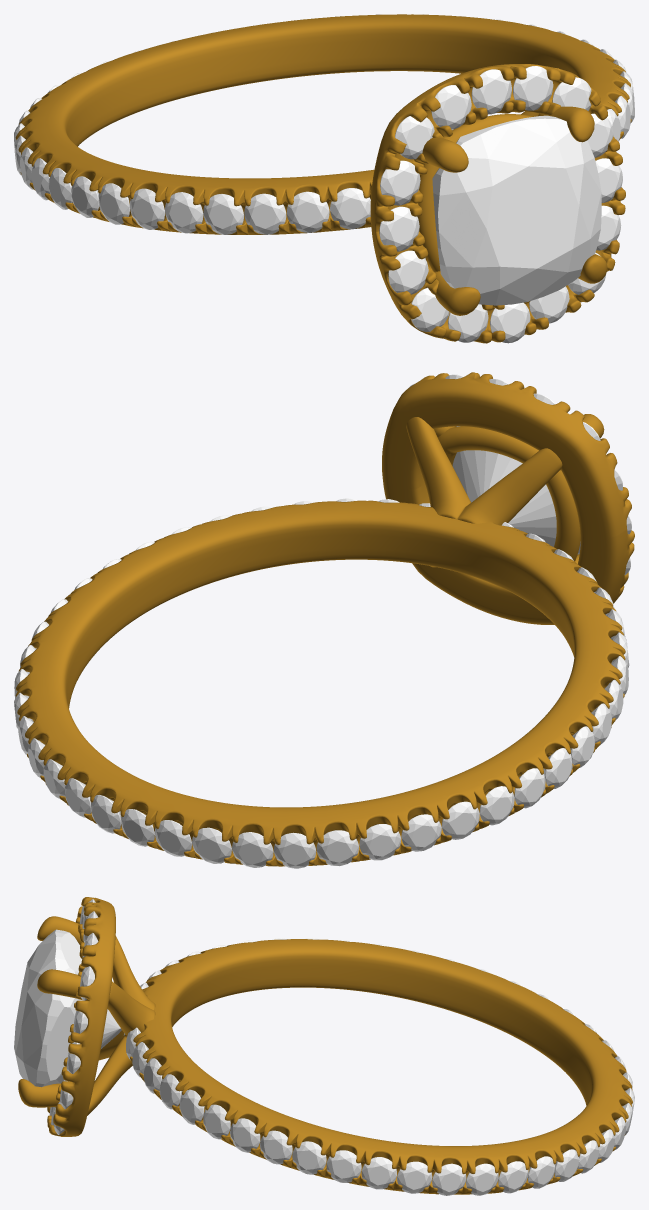
File: ring-scene1.glb
3 renders of one model, top to bottom at view 1: azimuth 30°, elevation 25°; view 2: azimuth 150°, elevation 25°; view 3: azimuth 270°, elevation 25°, orthographic. The views are drawn at different scales.
Parts seen in each view (by area): view 1: alliance, ring-compare, entourage, dia041, dia042, dia040, diamond_side_cuchion_008, diamond_side_cuchion_013, diamond_side_cuchion_014, diamond_side_cuchion_009, diamond_side_cuchion_010, diamond_side_cuchion_012 (+16 smaller); view 2: alliance, entourage, ring-compare, dia027, dia028, dia026, dia029, dia025, dia030, dia024, dia031, dia023 (+6 smaller); view 3: alliance, entourage, ring-compare, dia012, dia011, dia010, dia013, dia009, dia014, dia008, dia015, dia007 (+7 smaller).
Boxes of the visible parts, bbox=[...] form: alliance: bbox=[15, 14, 631, 234]; ring-compare: bbox=[432, 115, 601, 305]; entourage: bbox=[370, 64, 625, 343]; dia041: bbox=[287, 191, 329, 232]; dia042: bbox=[330, 188, 370, 229]; dia040: bbox=[244, 193, 286, 234]; diamond_side_cuchion_008: bbox=[513, 66, 553, 110]; diamond_side_cuchion_013: bbox=[379, 206, 419, 251]; diamond_side_cuchion_014: bbox=[388, 250, 428, 294]; diamond_side_cuchion_009: bbox=[471, 69, 511, 114]; diamond_side_cuchion_010: bbox=[431, 85, 471, 129]; diamond_side_cuchion_012: bbox=[380, 160, 420, 205]; alliance: bbox=[15, 500, 625, 866]; entourage: bbox=[382, 372, 634, 624]; ring-compare: bbox=[452, 426, 580, 554]; dia027: bbox=[316, 830, 358, 866]; dia028: bbox=[359, 824, 400, 860]; dia026: bbox=[274, 832, 316, 868]; dia029: bbox=[401, 814, 441, 851]; dia025: bbox=[232, 832, 273, 867]; dia030: bbox=[441, 801, 479, 839]; dia024: bbox=[192, 827, 231, 863]; dia031: bbox=[479, 786, 514, 825]; dia023: bbox=[154, 820, 191, 856]; alliance: bbox=[130, 939, 632, 1194]; entourage: bbox=[18, 897, 155, 1136]; ring-compare: bbox=[14, 929, 121, 1087]; dia012: bbox=[361, 1157, 396, 1189]; dia011: bbox=[326, 1150, 361, 1182]; dia010: bbox=[292, 1141, 326, 1174]; dia013: bbox=[397, 1161, 432, 1193]; dia009: bbox=[260, 1130, 292, 1164]; dia014: bbox=[432, 1163, 466, 1195]; dia008: bbox=[230, 1118, 260, 1152]; dia015: bbox=[466, 1163, 498, 1195]; dia007: bbox=[203, 1104, 230, 1139].
Size of the model in its own units: 2.45 by 1.11 by 2.96.
